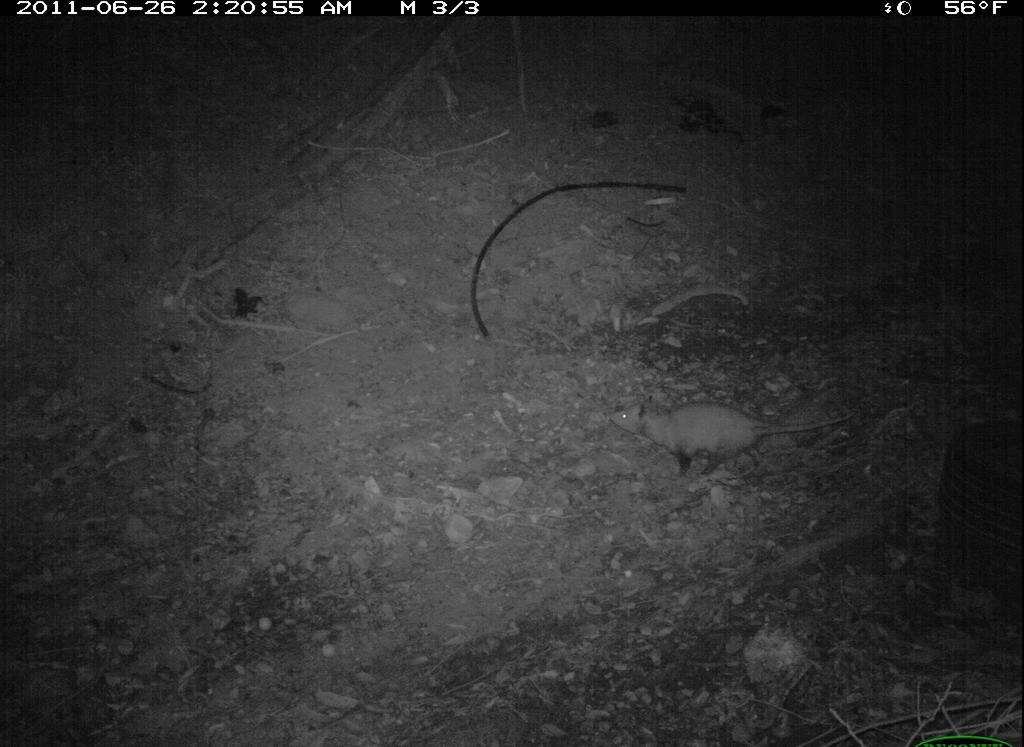opossum: (596, 379, 897, 482)
